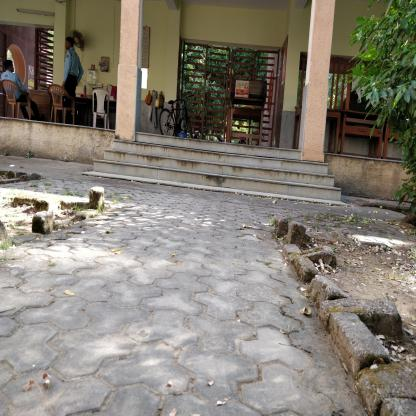stairs: (105, 148, 300, 185)
